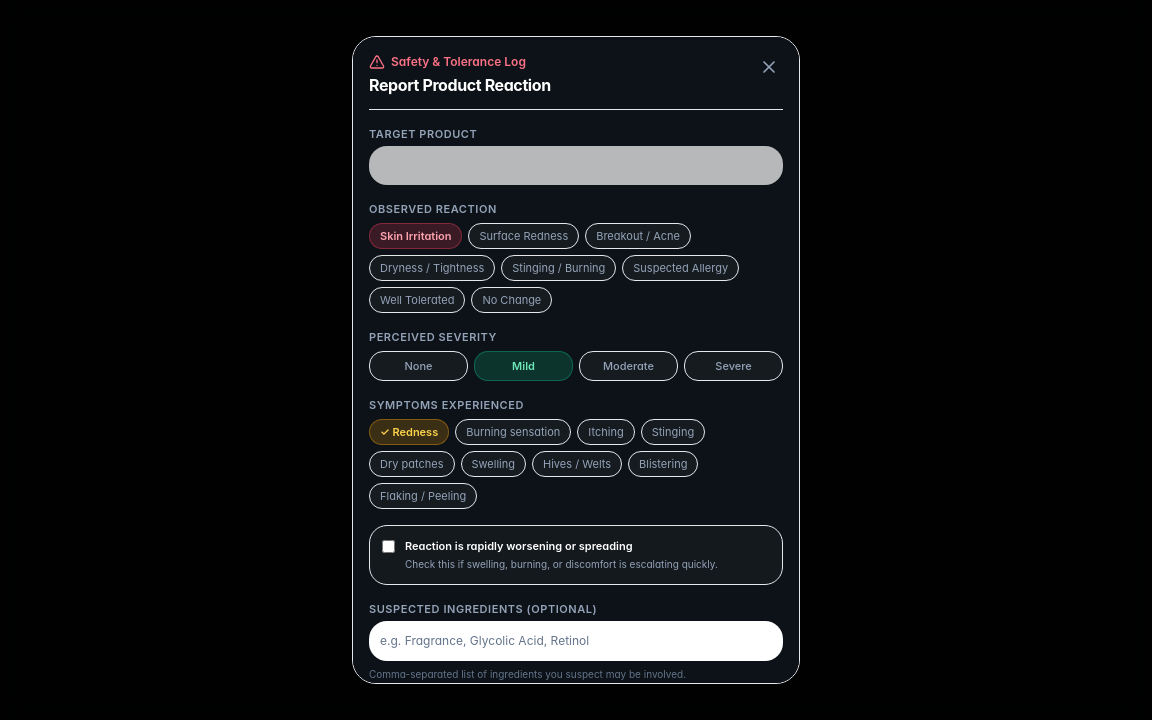
Test: Phase 10: Product Reactions, Profile, Settings & Privacy › ProductReactionModal Workflow › displays urgent care escalation guidance immediately when severe severity or worsening is checked
Expected: the text "Immediate Medical Care Notice" is not shown
Select 'severe' severity
What coordinates should you click on to do the following:
click the button "Severe"
I would click on:
 (734, 366)
Its box is [684, 351, 783, 381].
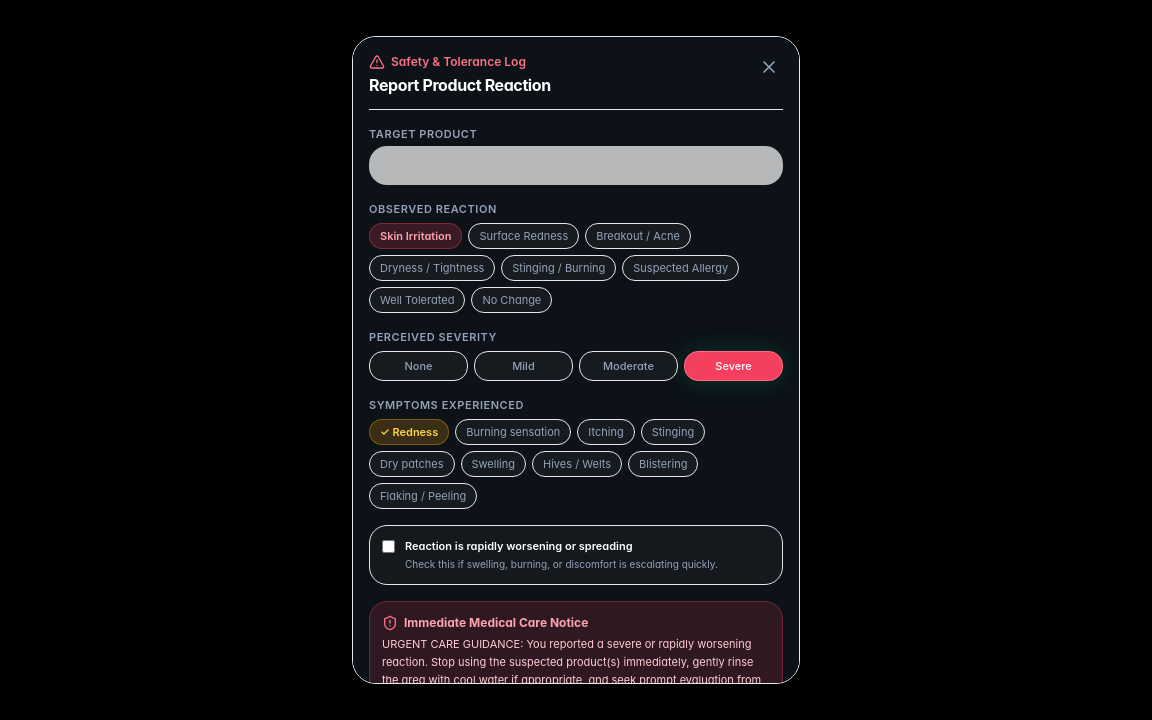
Now the text "Immediate Medical Care Notice" is shown, box [404, 614, 588, 632]
Reset to mild
What coordinates should you click on to do the following:
click the button "Mild"
I would click on:
 (524, 366)
Its box is [474, 351, 573, 381].
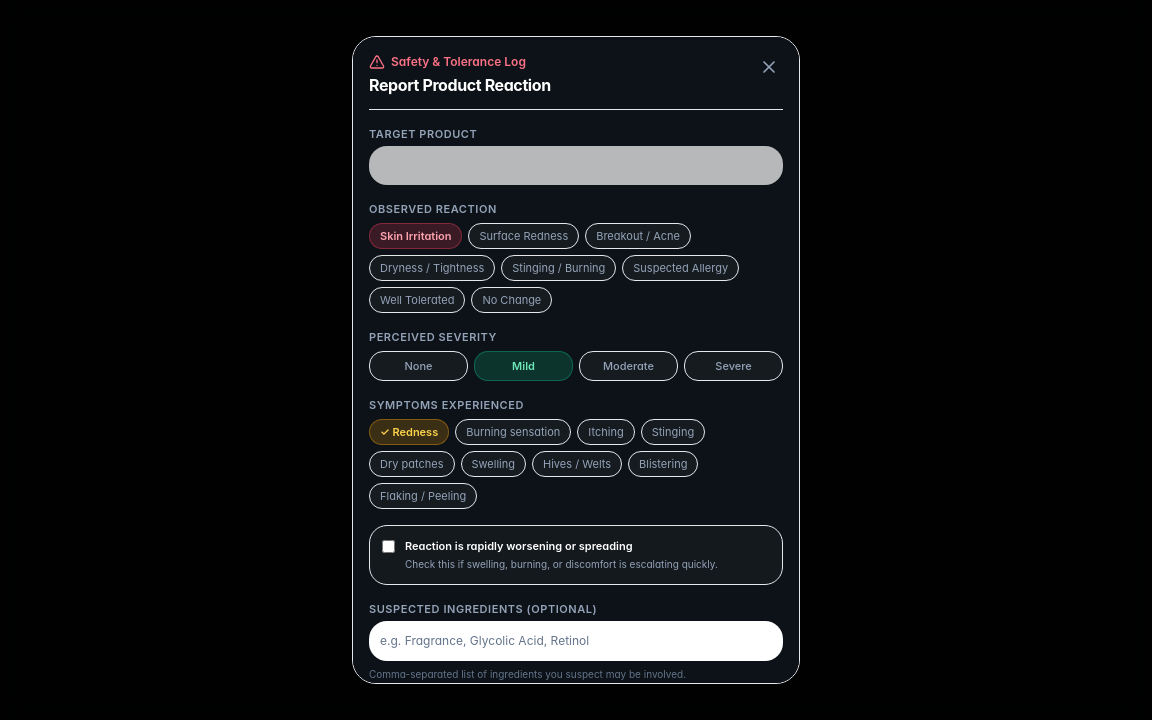
Now the text "Immediate Medical Care Notice" is gone
Checking 'rapidly worsening' triggers urgent care notice again
What coordinates should you click on to do the following:
click the checkbox
I would click on:
 (388, 546)
Its box is [382, 540, 395, 553].
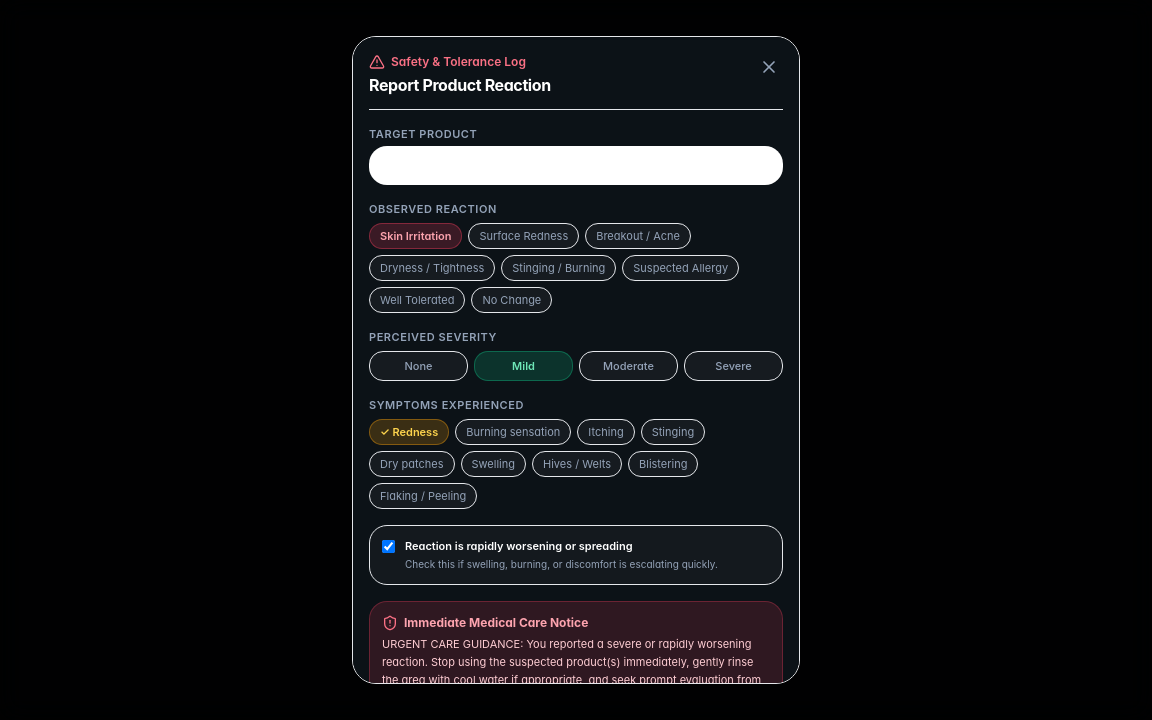
Now the text "Immediate Medical Care Notice" is shown, box [404, 614, 588, 632]
